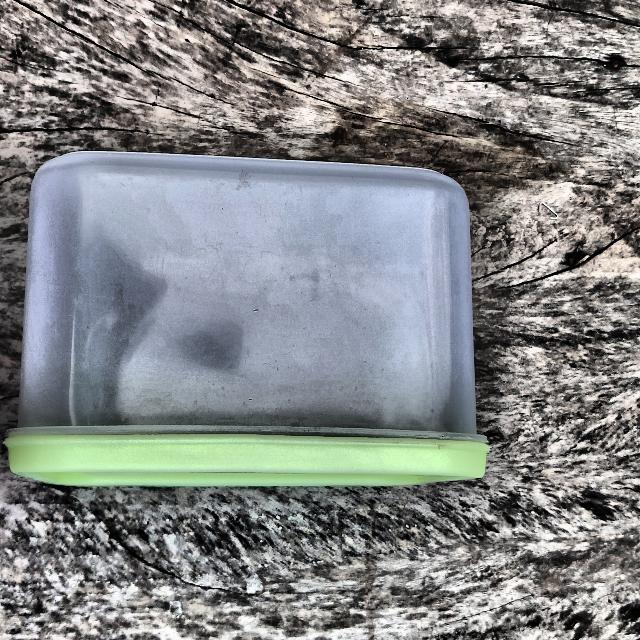plastic container: (2, 159, 499, 503)
